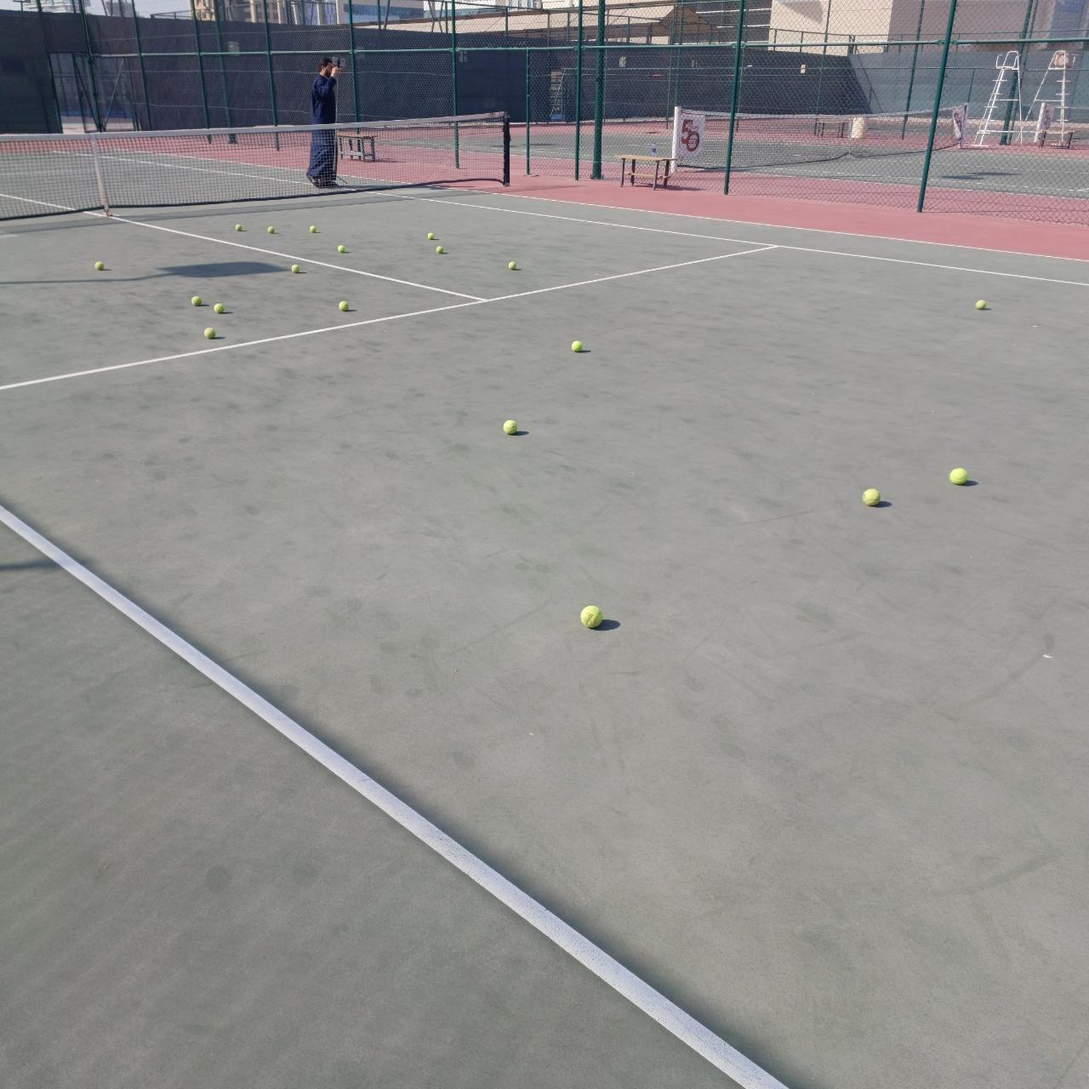tennis-ball: (580, 605, 602, 629), (860, 486, 880, 506), (948, 465, 967, 484), (501, 417, 517, 434), (202, 325, 215, 338), (973, 298, 987, 310), (336, 298, 348, 311), (213, 301, 225, 313), (572, 341, 582, 352), (191, 296, 202, 306), (95, 261, 104, 271), (291, 264, 299, 273), (508, 262, 516, 270), (436, 246, 444, 254), (309, 225, 317, 233), (267, 226, 275, 234), (338, 245, 345, 253), (235, 224, 243, 231), (428, 233, 434, 240)
